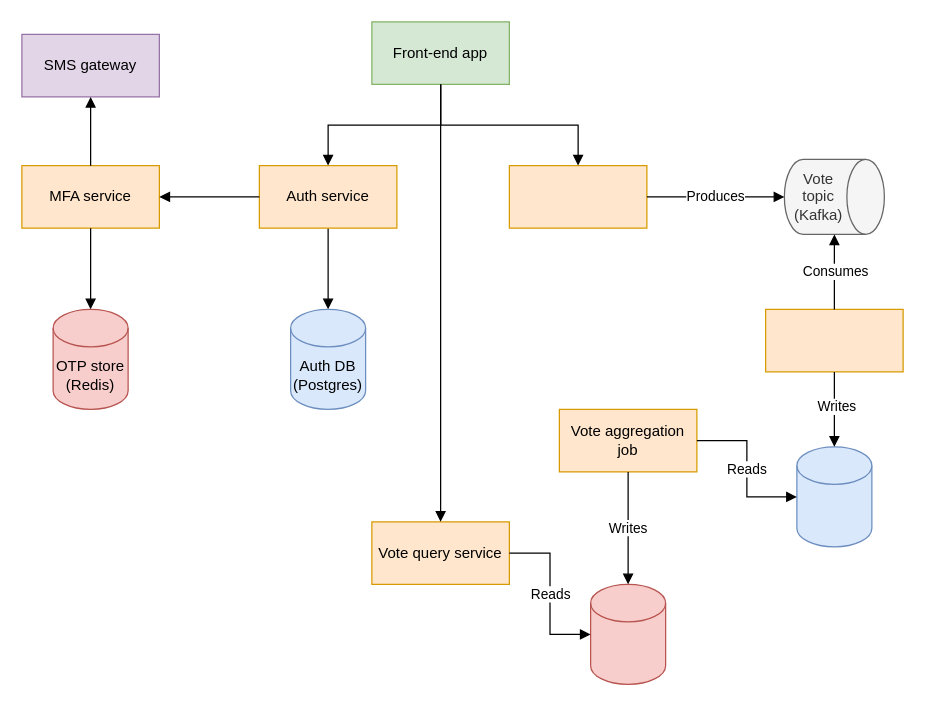
This 925x706 diagram has some shape labels left out. Each missing label, with the centre of its shape:
Vote batch inserter: the point at 833,340
Vote cache (Redis): the point at 627,633
Vote DB (Postgres): the point at 834,496
Vote receiver: the point at 577,196
